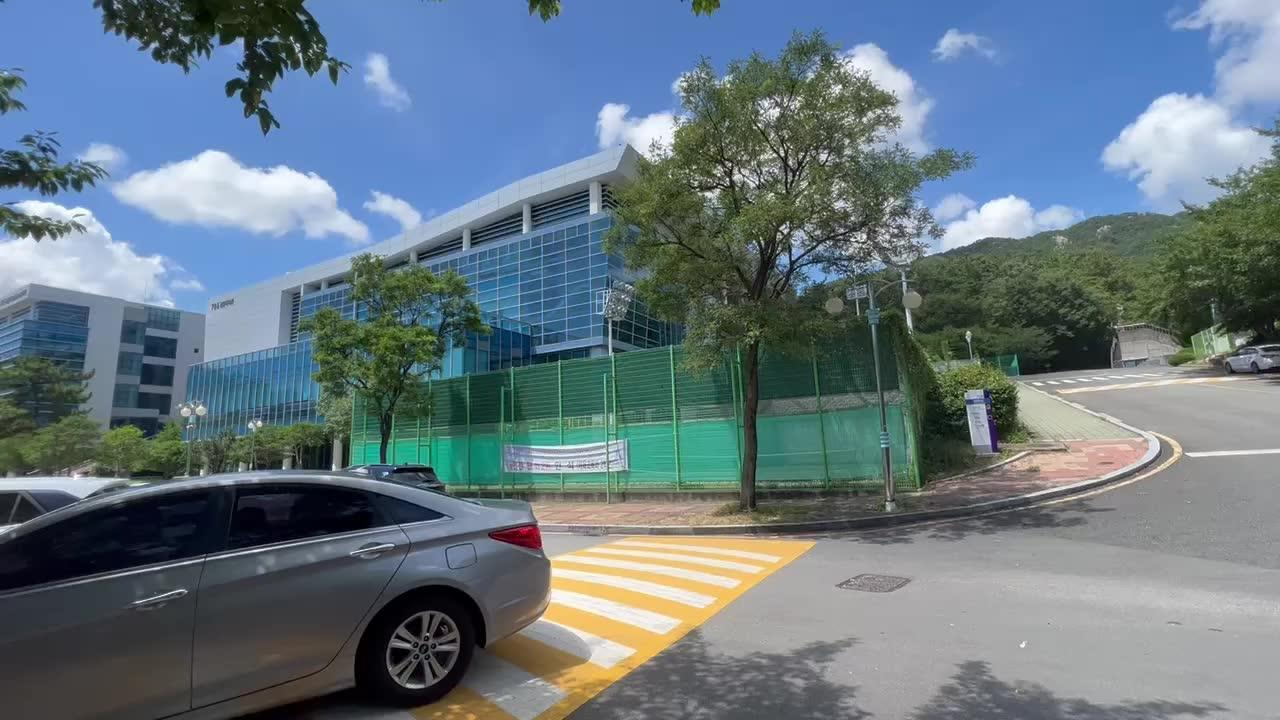building: (205, 150, 673, 357), (5, 285, 203, 423)
